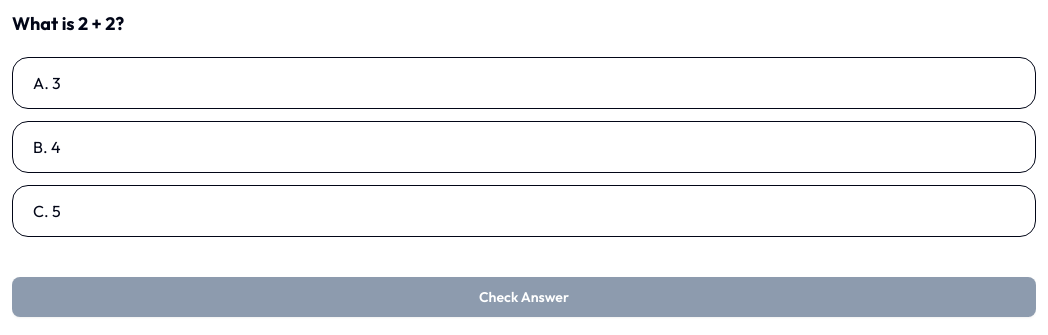
Scenario: QuizInlineViewer › shows Correct! feedback when the right answer is submitted
The width and height of the screenshot is (1048, 335).
Click the button "B. 4" at (38,147), box [12,121,1036,173]
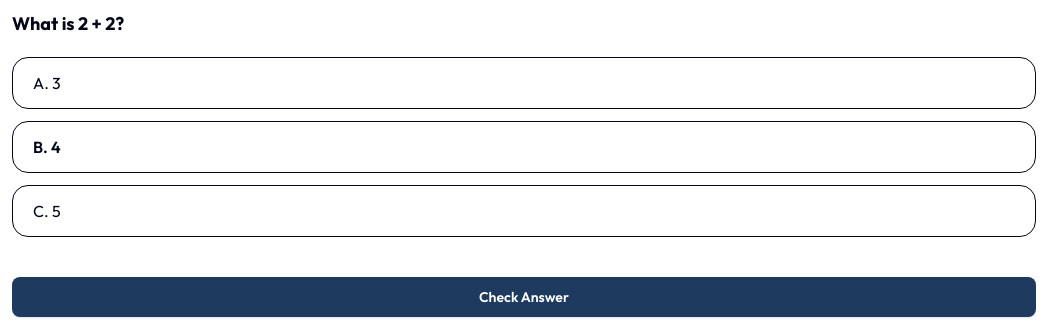
Click the button "Check Answer" at (524,297), box [12,277,1036,317]
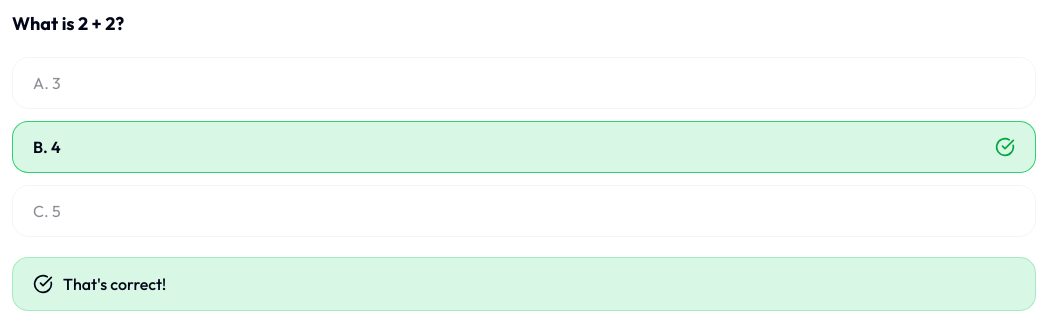
Expected: the text "That's correct!" is shown, [12,257,1036,311]
